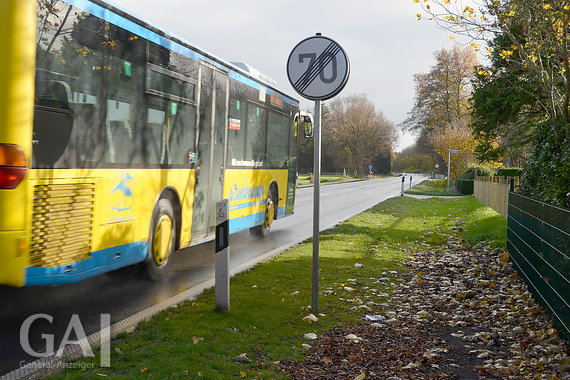aufgehoben: (285, 36, 350, 98)
